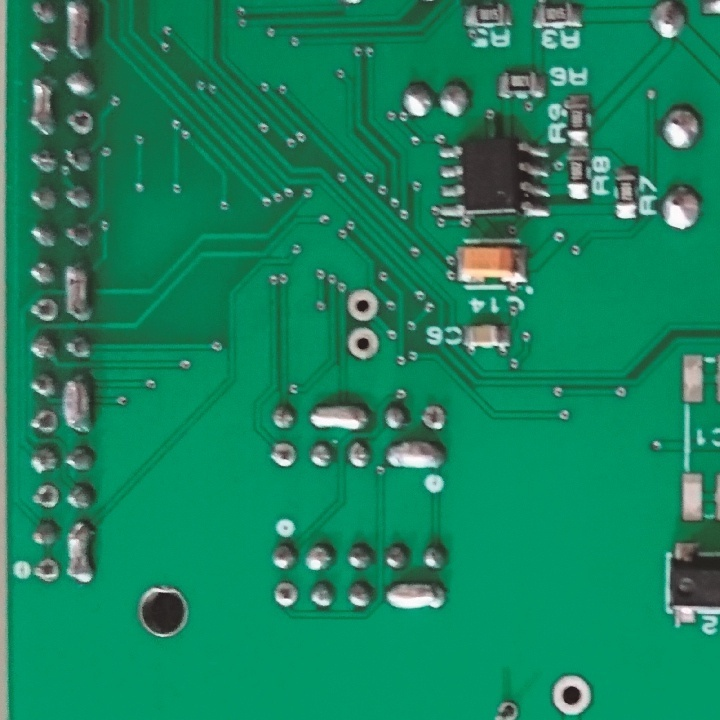F: (547, 671, 593, 716), (347, 326, 379, 363), (346, 288, 379, 323), (269, 439, 297, 472), (29, 481, 60, 510), (27, 298, 61, 324), (420, 403, 447, 432), (27, 408, 56, 435), (66, 108, 94, 135), (31, 558, 59, 583), (271, 580, 295, 609), (491, 698, 520, 720)
P: (386, 437, 448, 474), (63, 1, 95, 66), (60, 372, 94, 432), (383, 581, 447, 612), (66, 522, 96, 587), (310, 402, 373, 432), (64, 263, 94, 320), (27, 74, 53, 138)
